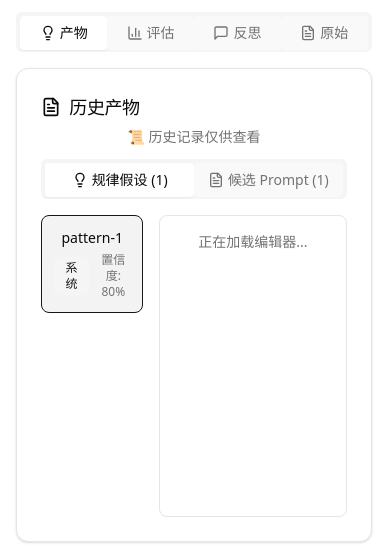
Test: HistoryDetailView › 应展示评估与反思内容
The image size is (389, 560).
Expected: the text "📜 历史记录仅供查看" is shown, [127,127,260,146]
Click the button "评估": (151, 33) [107,16,194,50]
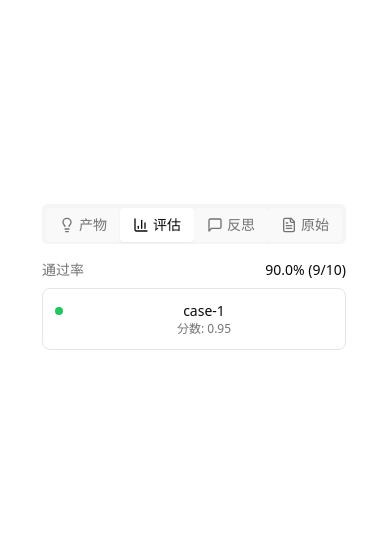
Now the text "case-1" is shown, box [183,301,225,320]
Now the text "分数: 0.95" is shown, box [177,320,231,337]
Click the button "反思": (231, 225) [194,208,268,242]
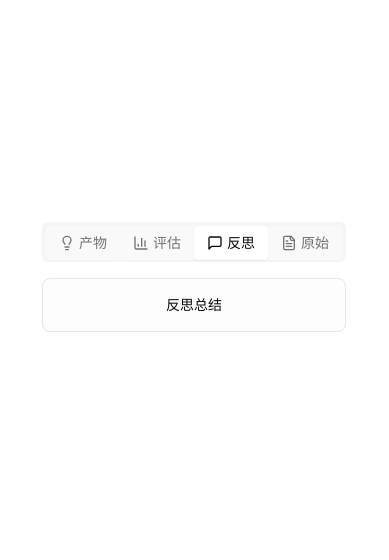
Now the text "反思总结" is shown, box [166,295,222,314]
